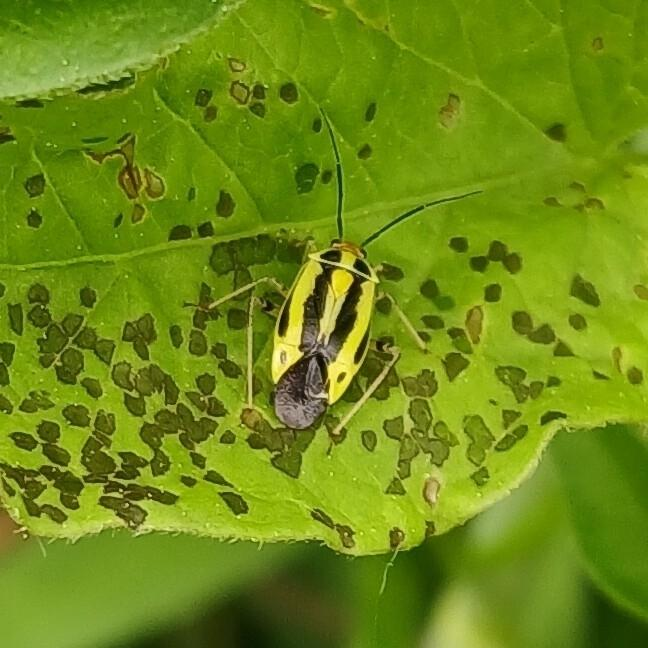plant_bugs: (165, 75, 505, 479)
